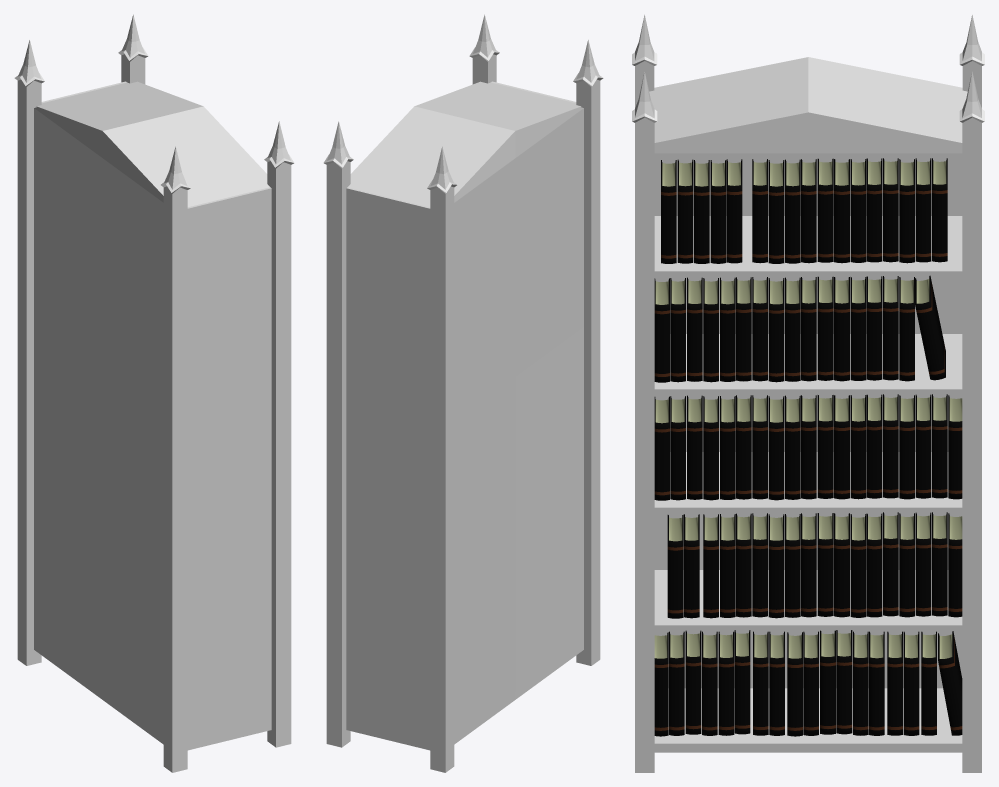
File: BookselfFULL.fbx
3 views of the same model, side by side, from view 1: azimuth 30°, elevation 25°; view 2: azimuth 150°, elevation 25°; view 3: azimuth 270°, elevation 25° (orthographic). The views are drawn at different scales.
Parts seen in each view (by area): view 1: BookselfFULL; view 2: BookselfFULL; view 3: BookselfFULL.
Part boxes in pixels (left/top/right/bottom): BookselfFULL: left=14, top=14, right=294, bottom=772; BookselfFULL: left=323, top=14, right=603, bottom=772; BookselfFULL: left=632, top=15, right=984, bottom=772.
Size of the model in its own units: 48.71 by 235 by 108.
